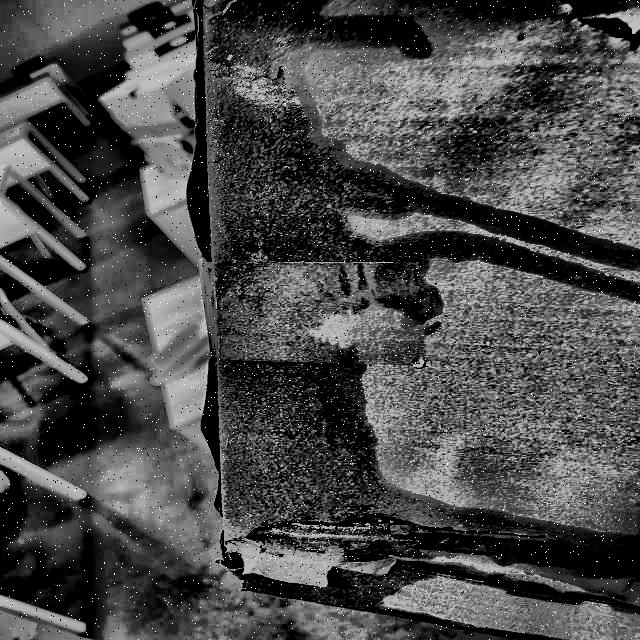box: (188, 0, 638, 639)
wet: (201, 0, 382, 608)
